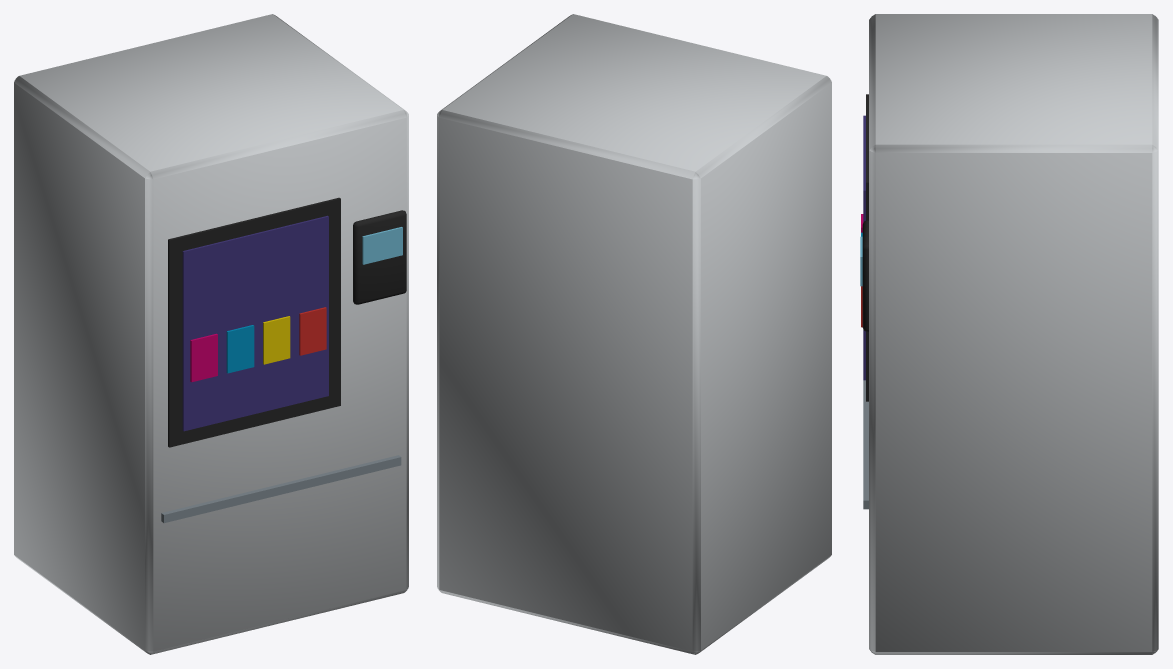
File: m_climate.glb
3 views of the same model, side by side, from view 1: azimuth 30°, elevation 25°; view 2: azimuth 150°, elevation 25°; view 3: azimuth 270°, elevation 25° (orthographic). The views are drawn at different scales.
Parts seen in each view (by area): view 1: m_climate; view 2: m_climate; view 3: m_climate.
Part boxes in pixels (<box>): m_climate: <box>14,14,408,654</box>; m_climate: <box>437,14,831,654</box>; m_climate: <box>860,14,1158,654</box>.
Bounding box in the file's own units: 0.4 × 0.7 × 0.371.
